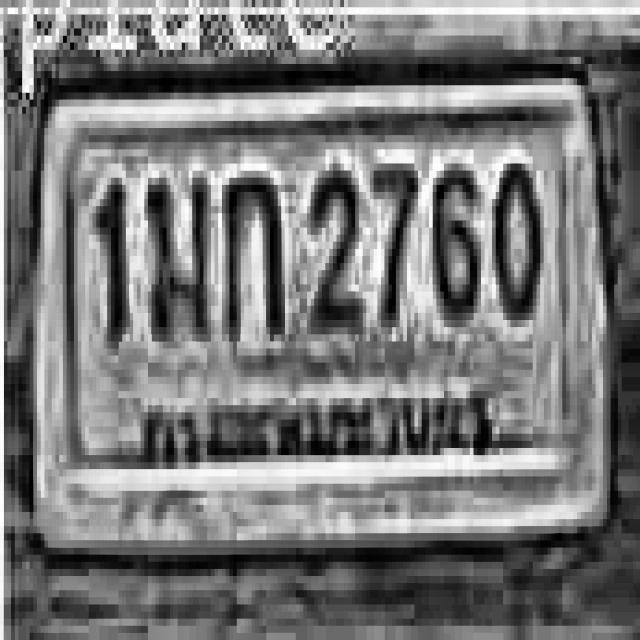license-plate: (27, 62, 611, 562)
